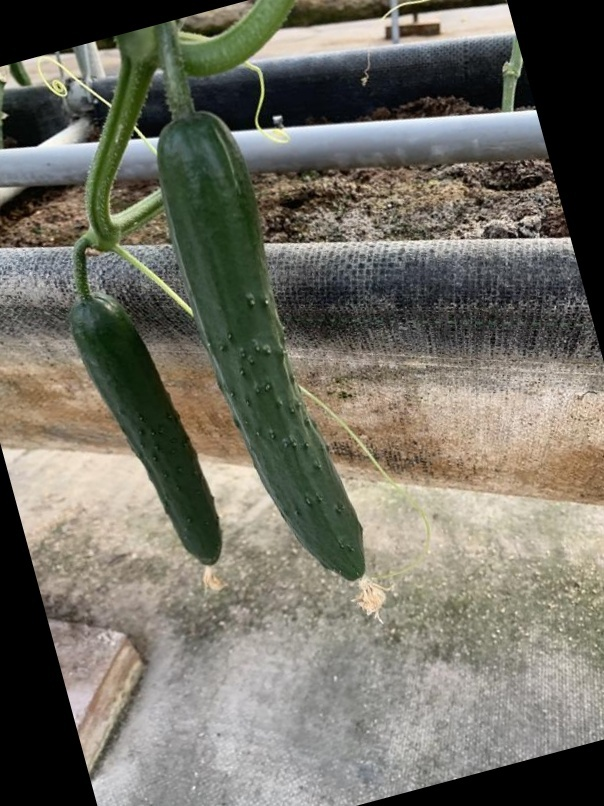mature: (157, 113, 369, 591), (64, 292, 223, 569)
